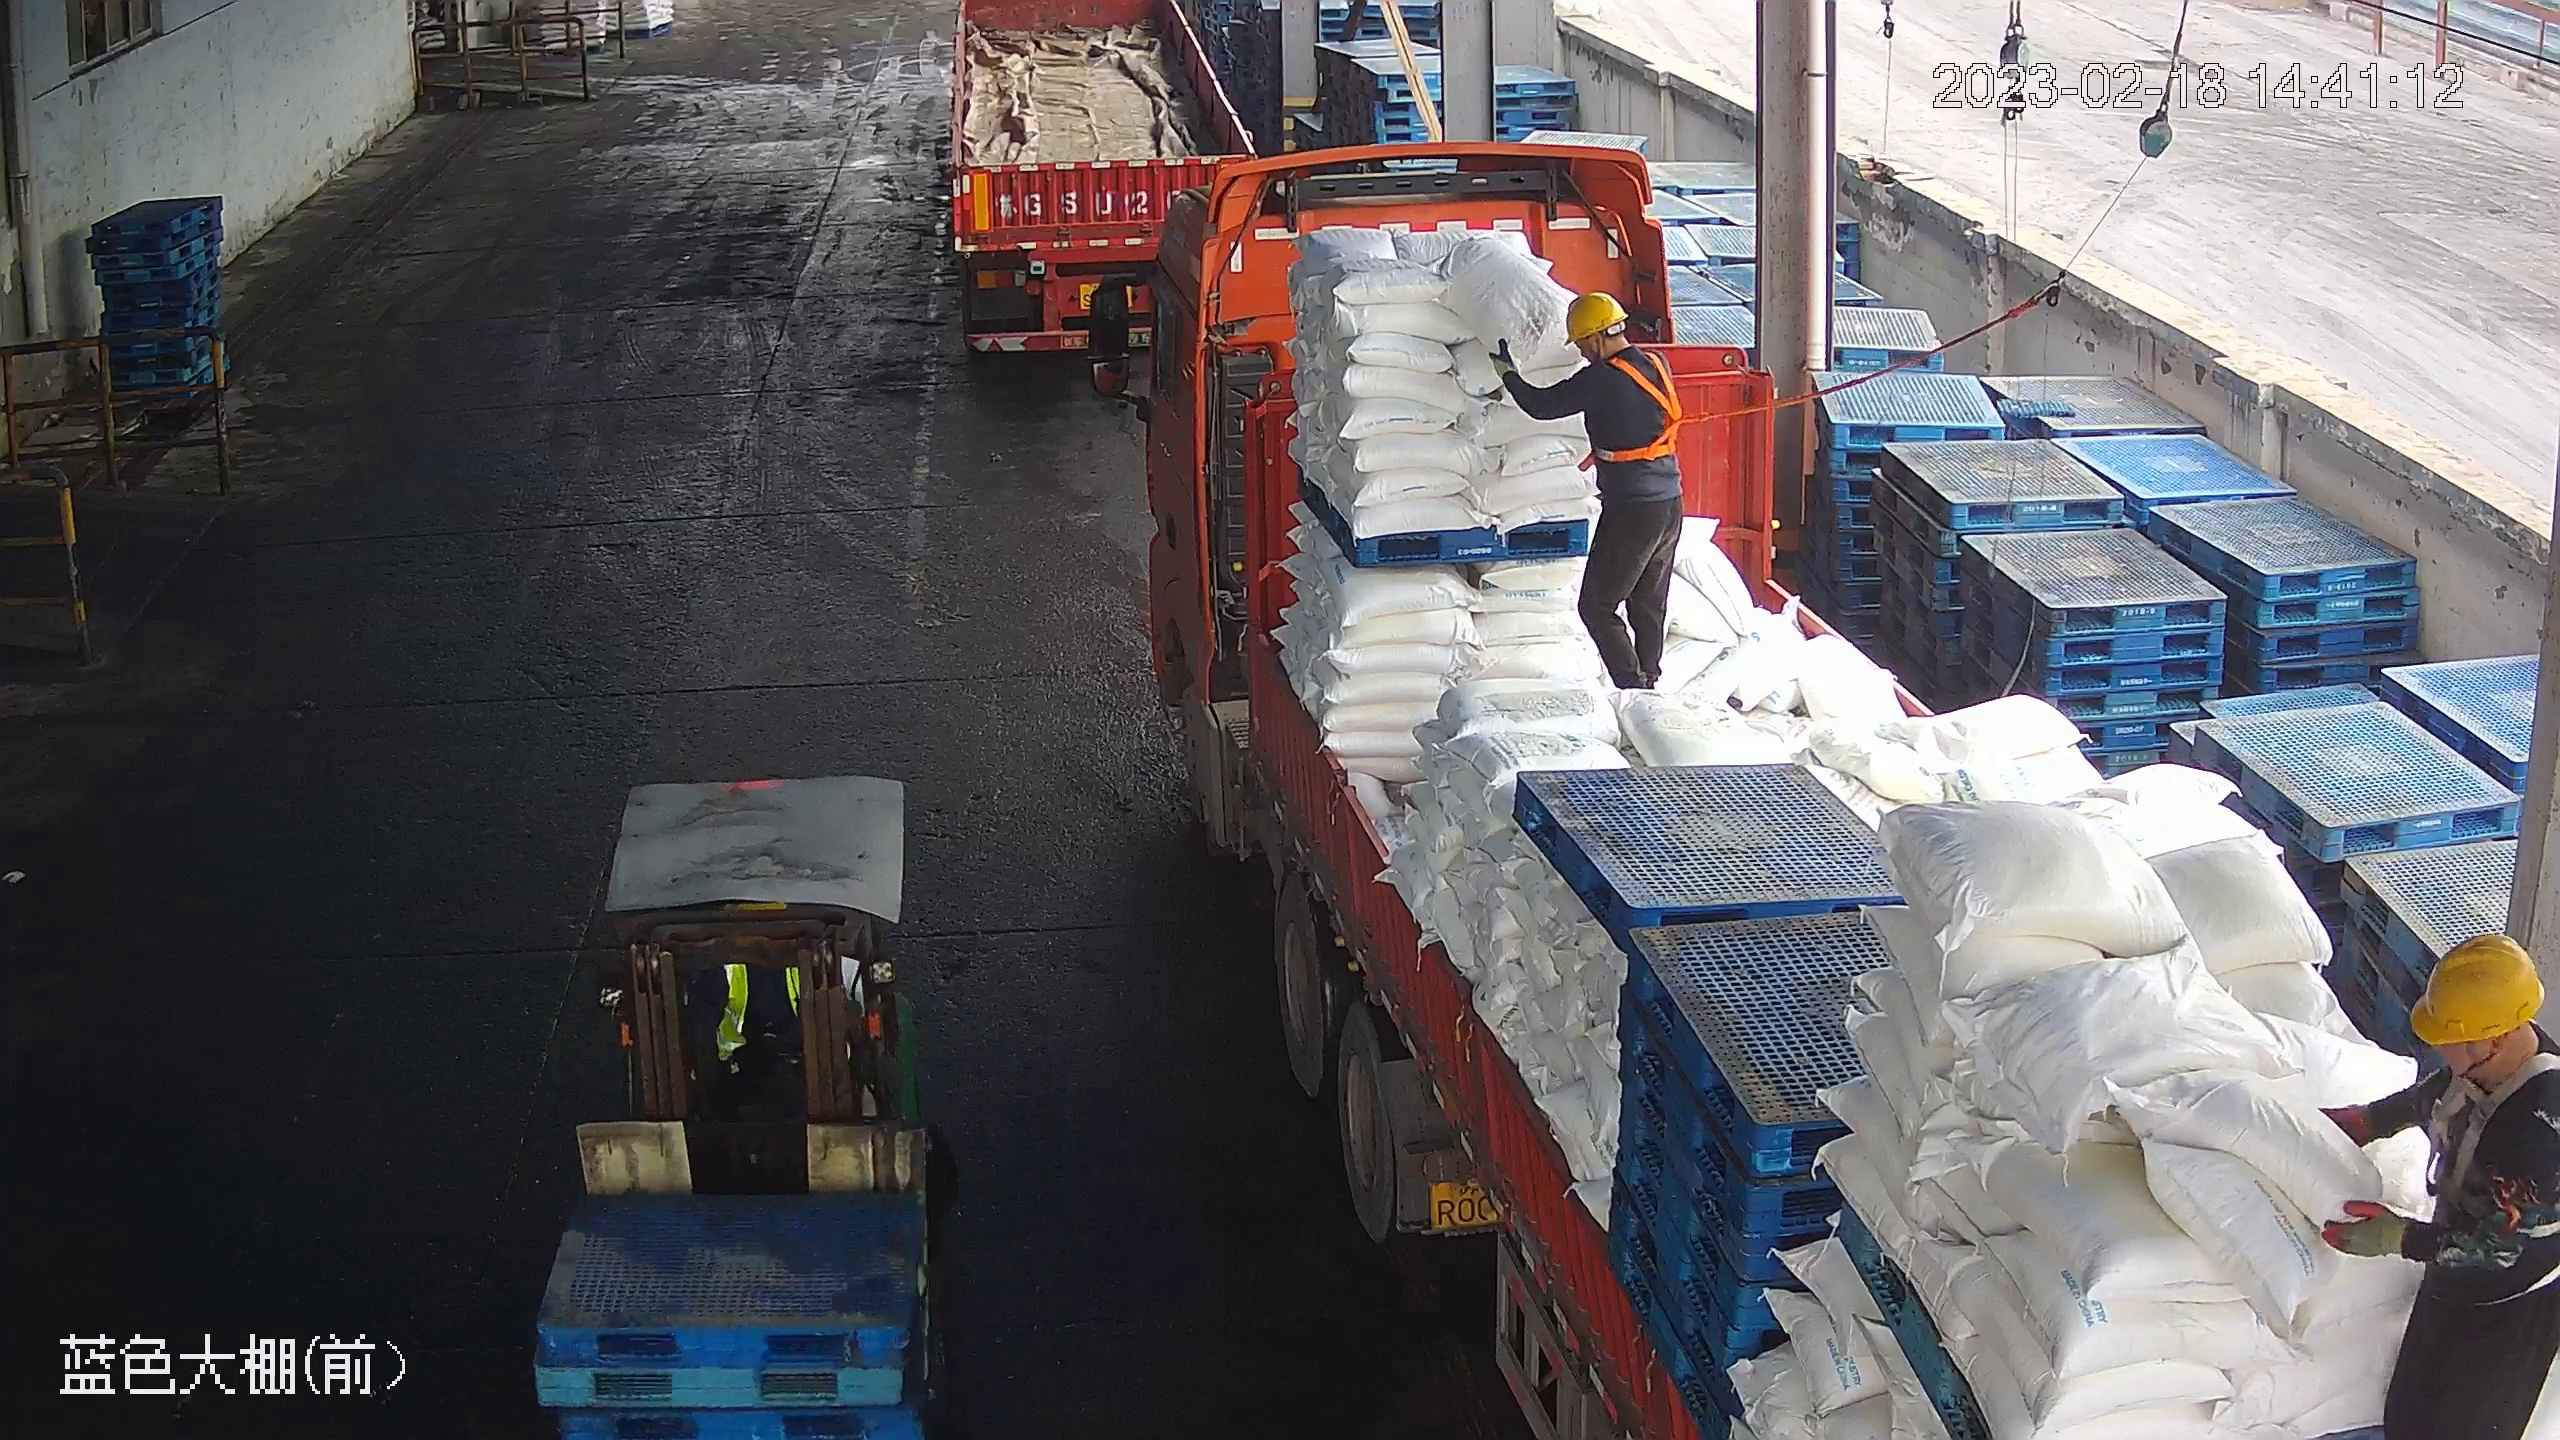belt: (2430, 1058, 2560, 1240), (1589, 344, 1697, 465)
head: (2398, 933, 2560, 1180), (1554, 290, 1678, 421)
helmet: (2404, 935, 2543, 1043), (1562, 291, 1626, 347)
people: (2316, 935, 2559, 1438), (1489, 288, 1690, 690)
truck: (1081, 134, 2553, 1438), (941, 4, 1271, 379)
